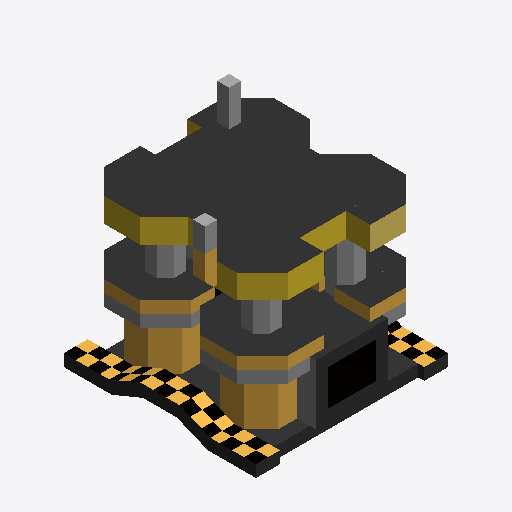
A Minecraft block model of 114 cuboids, rendered isometrically (azimuth 45°, elevation 35.3°) with the resource pack's own textures.
Parts seen in each view (by area): element 103, element 49, element 2, element 48, element 83, element 35, element 38, element 30, element 45, element 96, element 100, element 31 (+28 smaller).
Boxes of the visible parts, <box> form: element 103: <box>118,109,380,258</box>; element 49: <box>186,257,387,373</box>; element 2: <box>106,339,417,456</box>; element 48: <box>297,360,387,428</box>; element 83: <box>346,199,405,251</box>; element 35: <box>200,314,271,383</box>; element 38: <box>334,273,405,324</box>; element 30: <box>104,259,175,327</box>; element 45: <box>208,424,279,477</box>; element 96: <box>237,245,287,299</box>; element 100: <box>104,182,163,243</box>; element 31: <box>140,286,190,327</box>.
Size of the model in its own units: 16 by 16 by 16.